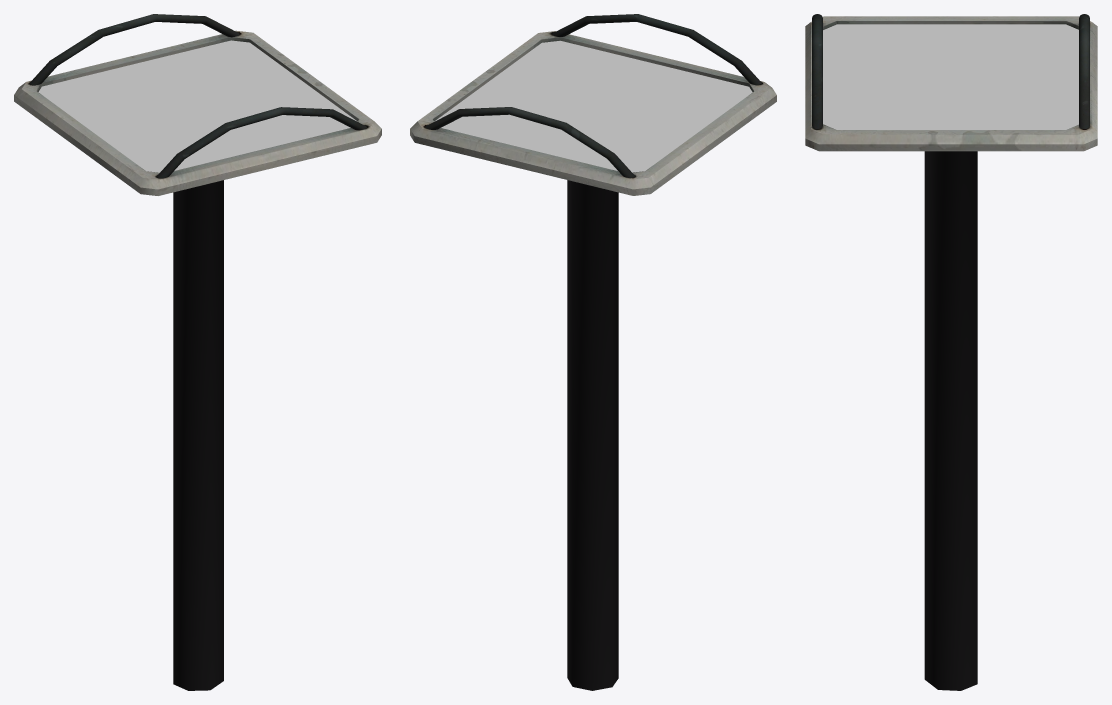
The model's file is SafetyLift.fbx.
3 renders of one model, left to right at view 1: azimuth 30°, elevation 25°; view 2: azimuth 150°, elevation 25°; view 3: azimuth 270°, elevation 25°, orthographic. The views are drawn at different scales.
Visible parts, largest first — view 1: Object_664; view 2: Object_664; view 3: Object_664.
Boxes of the visible parts, box(x1,y1,x2,y2) form: Object_664: box(14, 14, 381, 690); Object_664: box(410, 14, 776, 690); Object_664: box(805, 14, 1097, 690).
Bounding box in the file's own units: 242 × 242 × 589.
